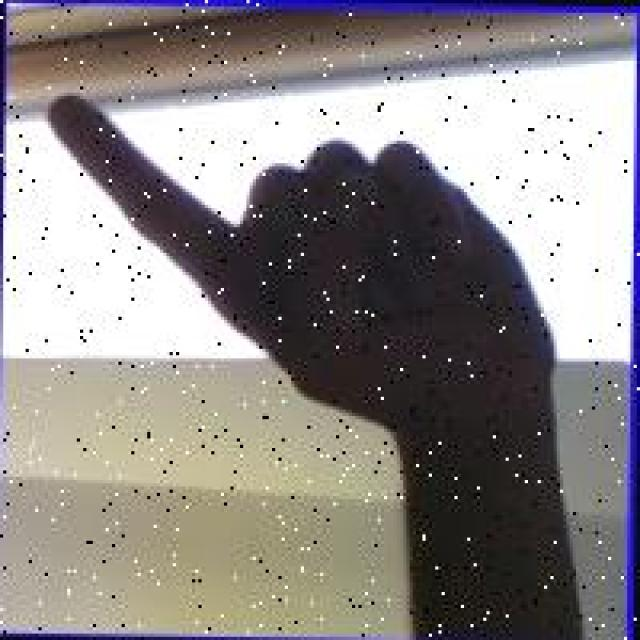Z: (42, 86, 570, 432)
